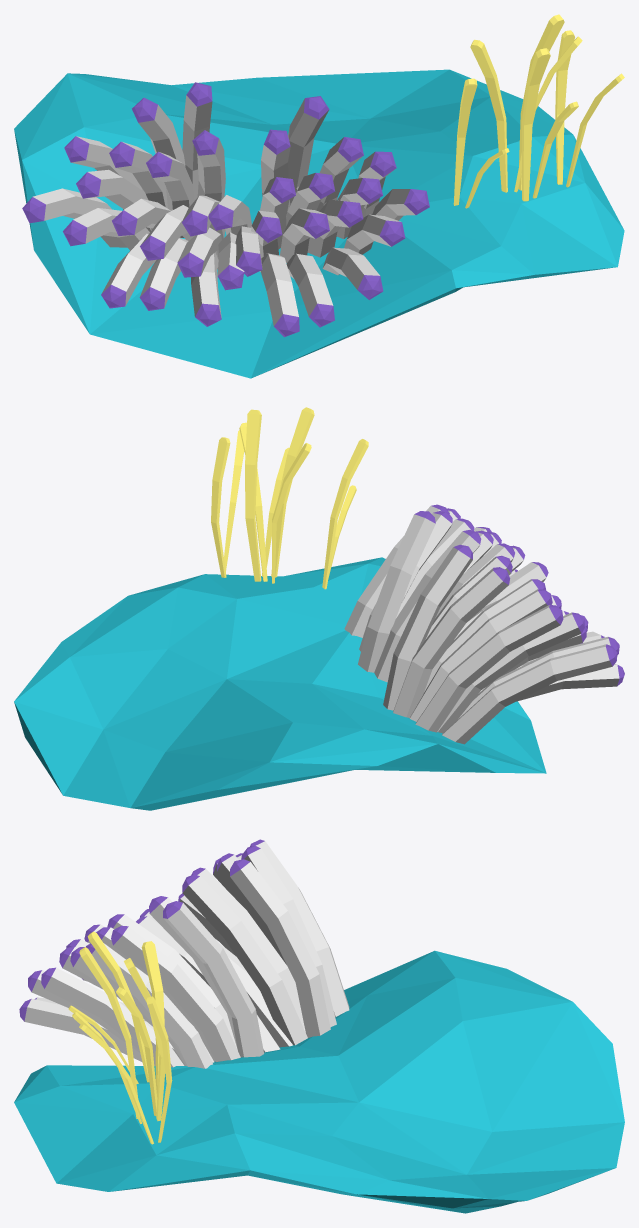
Rendered from Coralls_010.glb.
3 renders of one model, top to bottom at view 1: azimuth 30°, elevation 25°; view 2: azimuth 150°, elevation 25°; view 3: azimuth 270°, elevation 25°, orthographic. The views are drawn at different scales.
Parts seen in each view (by area): view 1: Coralls_010; view 2: Coralls_010; view 3: Coralls_010.
Boxes of the visible parts, x1,y1,x2,y2 form: Coralls_010: (14, 14, 624, 378); Coralls_010: (14, 407, 624, 810); Coralls_010: (14, 839, 624, 1213).
Size of the model in its own units: 2.1 by 1.03 by 2.07.
Materials: 2 (2 with a texture image).
